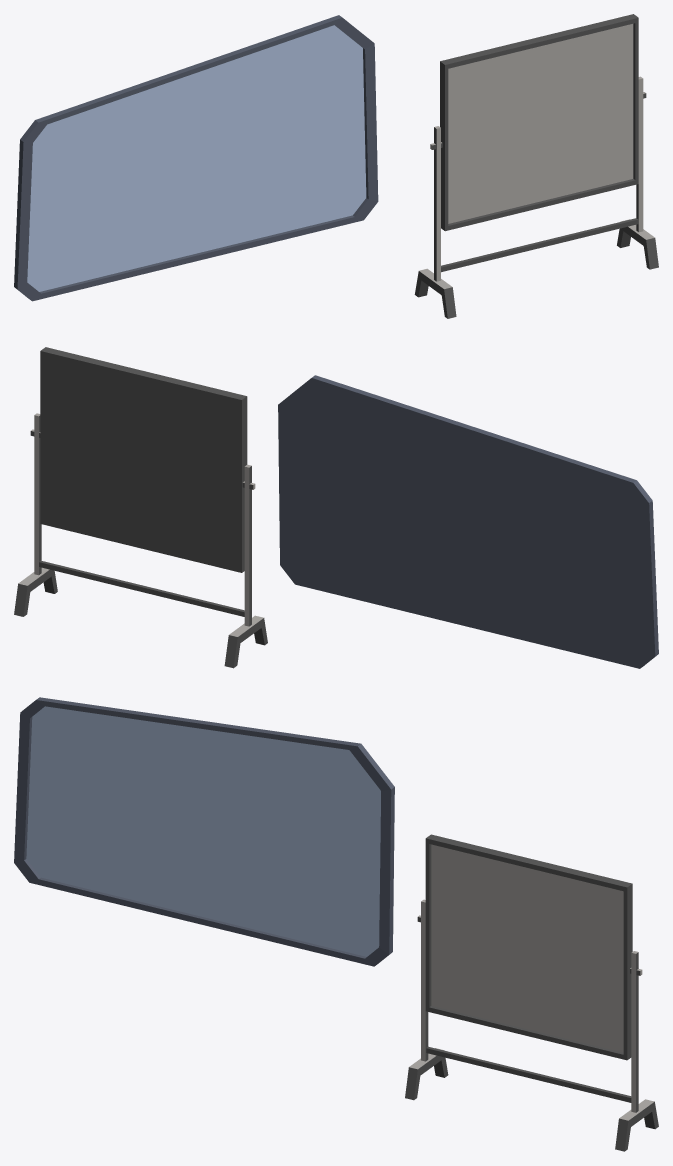
File: boards_computerRoom.fbx
3 renders of one model, top to bottom at view 1: azimuth 30°, elevation 25°; view 2: azimuth 150°, elevation 25°; view 3: azimuth 330°, elevation 25°, orthographic. The views are drawn at different scales.
Parts seen in each view (by area): view 1: pCube1, tableau; view 2: pCube1, tableau; view 3: pCube1, tableau.
Boxes of the visible parts, x1=… form: pCube1: x1=14, y1=15, x2=378, y2=301; tableau: x1=414, y1=14, x2=658, y2=318; pCube1: x1=278, y1=375, x2=658, y2=668; tableau: x1=14, y1=347, x2=267, y2=668; pCube1: x1=14, y1=697, x2=394, y2=966; tableau: x1=405, y1=834, x2=658, y2=1151.
Size of the model in its own units: 2400 by 1110 by 226.
